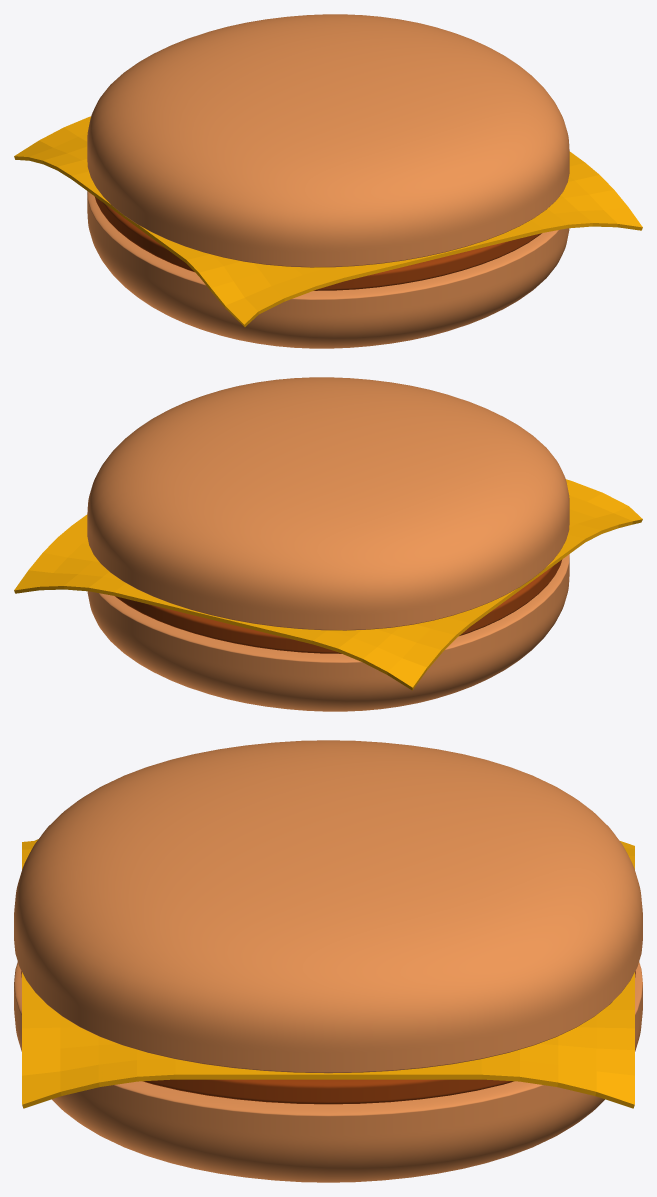
File: hamburger.glb
The picture shows the model from 3 angles, top to bottom: view 1: azimuth 30°, elevation 25°; view 2: azimuth 150°, elevation 25°; view 3: azimuth 270°, elevation 25°; orthographic projection. The views are drawn at different scales.
Visible parts, largest first — view 1: Cube.002, Cube, Plane, Cube.001; view 2: Cube.002, Cube, Plane, Cube.001; view 3: Cube.002, Cube, Plane, Cube.001.
Boxes of the visible parts, x1,y1,x2,y2 form: Cube.002: [87, 14, 569, 267]; Cube: [87, 191, 569, 348]; Plane: [14, 116, 642, 326]; Cube.001: [94, 196, 541, 290]; Cube.002: [87, 377, 569, 630]; Cube: [87, 554, 569, 711]; Plane: [14, 479, 642, 690]; Cube.001: [115, 559, 562, 653]; Cube.002: [14, 740, 642, 1073]; Cube: [14, 962, 642, 1182]; Plane: [22, 839, 634, 1108]; Cube.001: [21, 971, 635, 1104].
Size of the model in its own units: 9.48 by 4.7 by 9.48.
